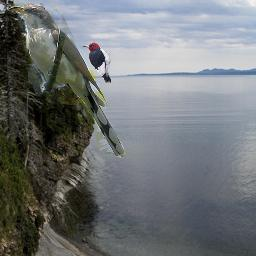Cuckoo: (8, 3, 125, 158)
Woodpecker: (83, 42, 111, 83)
